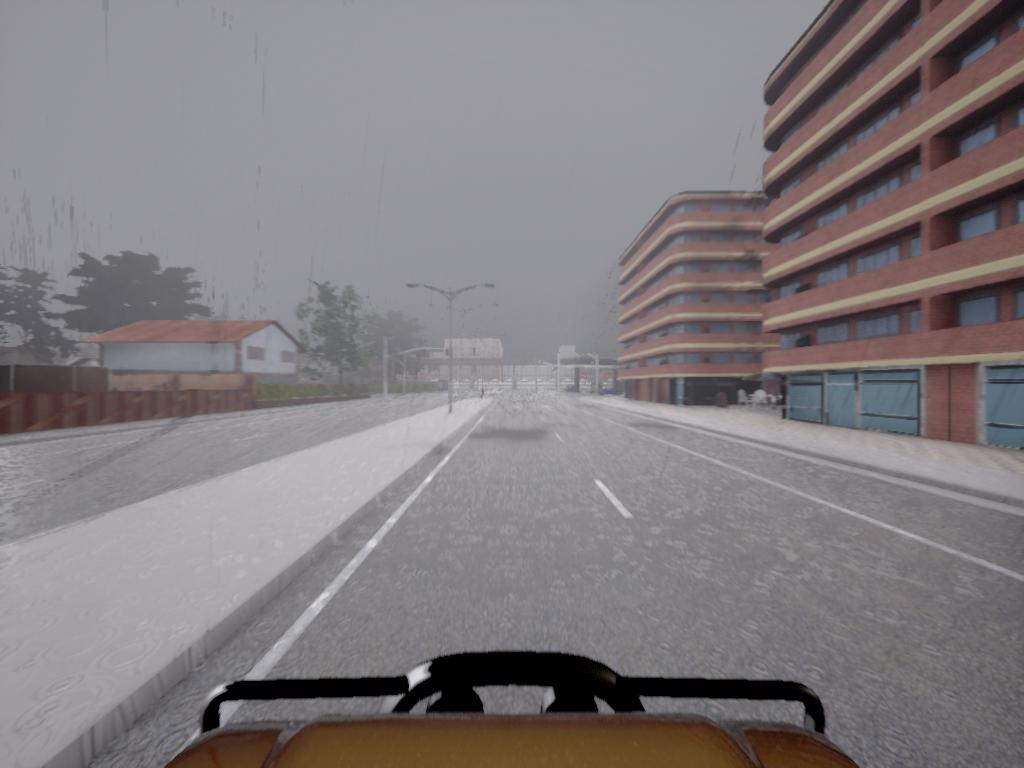traffic_light: (446, 349, 450, 357), (474, 349, 476, 357)
